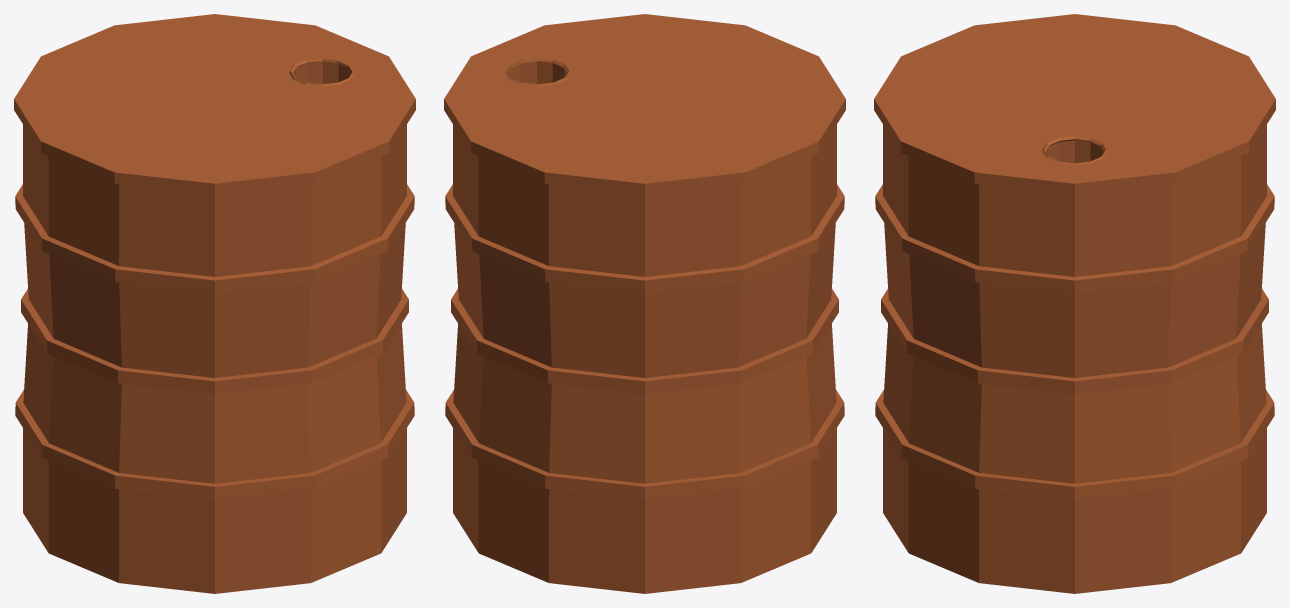
Rendered from bucket2.fbx.
The picture shows the model from 3 angles, left to right: view 1: azimuth 30°, elevation 25°; view 2: azimuth 150°, elevation 25°; view 3: azimuth 270°, elevation 25°; orthographic projection.
Parts seen in each view (by area): view 1: 柱体.027; view 2: 柱体.027; view 3: 柱体.027.
Boxes of the visible parts, x1,y1,x2,y2 form: 柱体.027: (14,14,415,593); 柱体.027: (444,14,845,593); 柱体.027: (874,14,1275,593).
Bounding box in the file's own units: 354 × 354 × 404.
